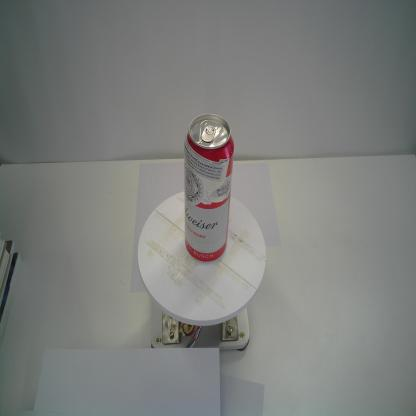Alcohol: (184, 112, 235, 264)
